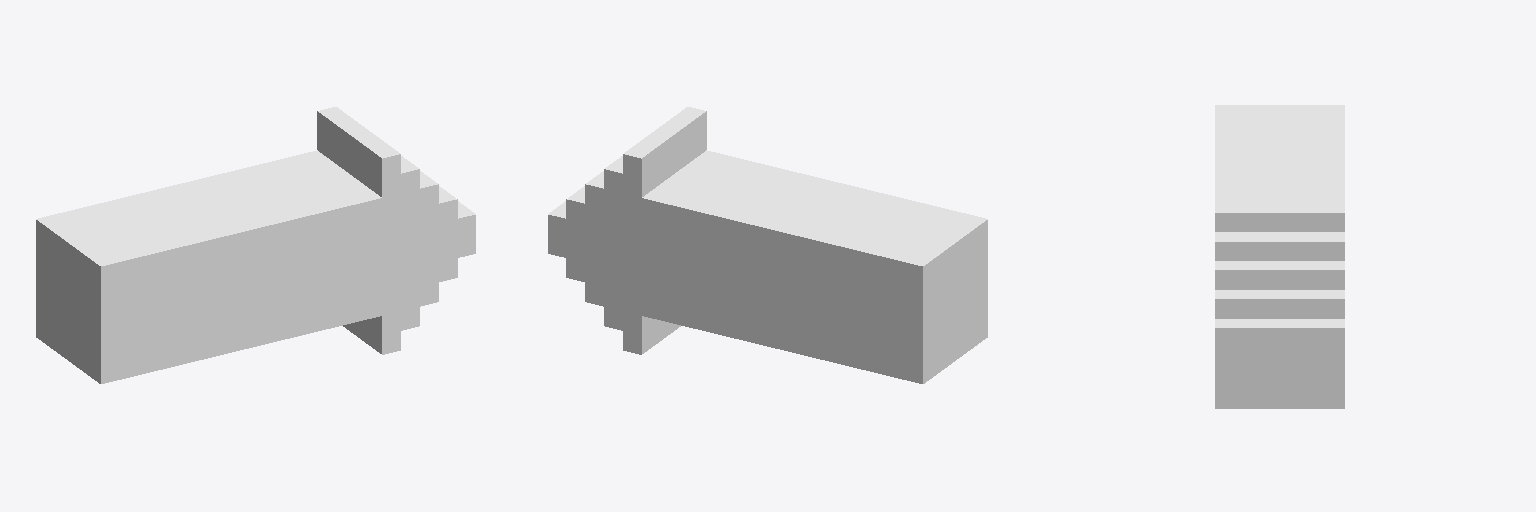
The model's file is arrow.obj.
3 renders of one model, left to right at view 1: azimuth 30°, elevation 25°; view 2: azimuth 150°, elevation 25°; view 3: azimuth 270°, elevation 25°, orthographic.
Parts seen in each view (by area): view 1: arrow; view 2: arrow; view 3: arrow.
Boxes of the visible parts, <box> form: arrow: <box>36,107,475,383</box>; arrow: <box>548,107,987,383</box>; arrow: <box>1215,105,1344,408</box>.
Bounding box in the file's own units: 2 × 1 × 0.6.